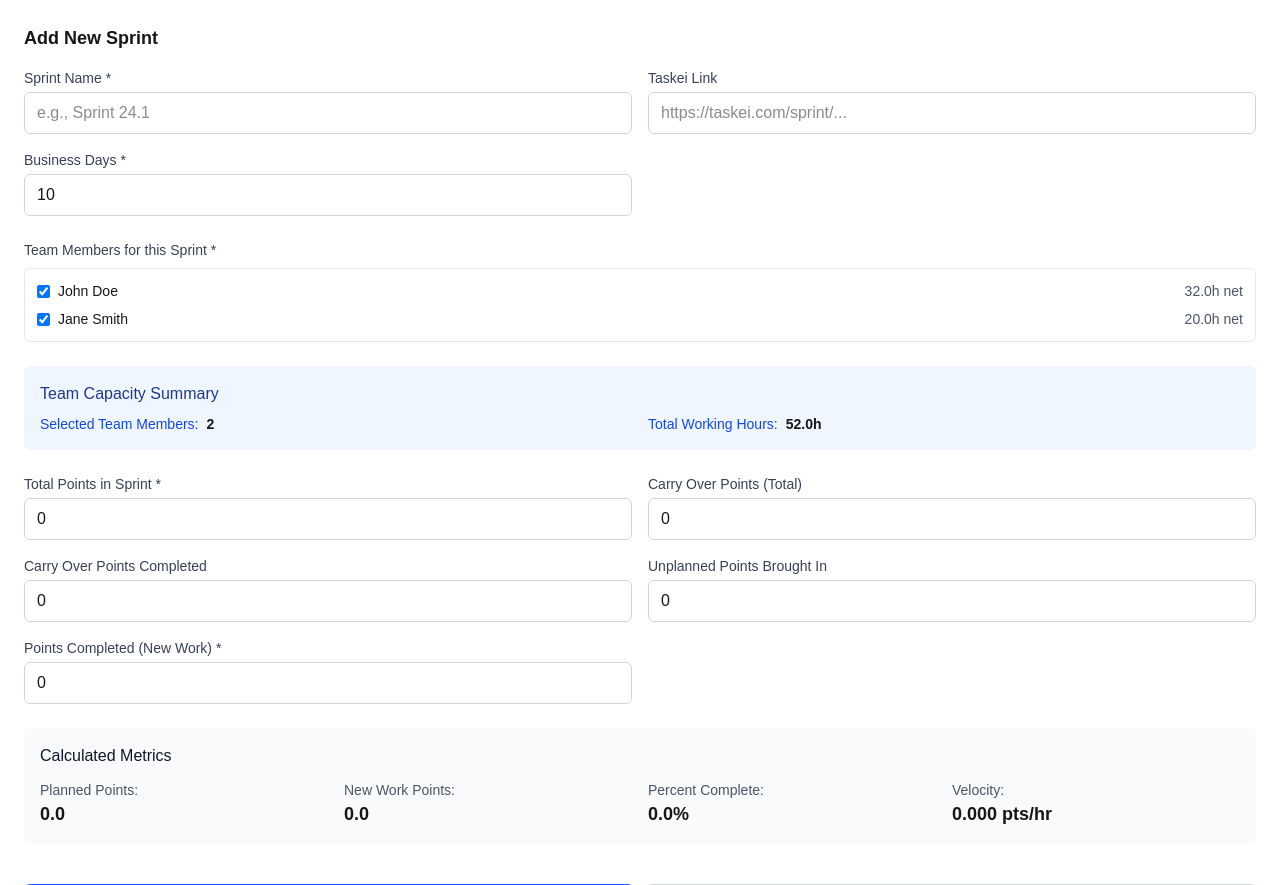
Scenario: SprintForm › should validate that at least one team member is selected
// Uncheck all team members
Click the checkbox labelled "John Doe": click(44, 291) [37,284,50,298]
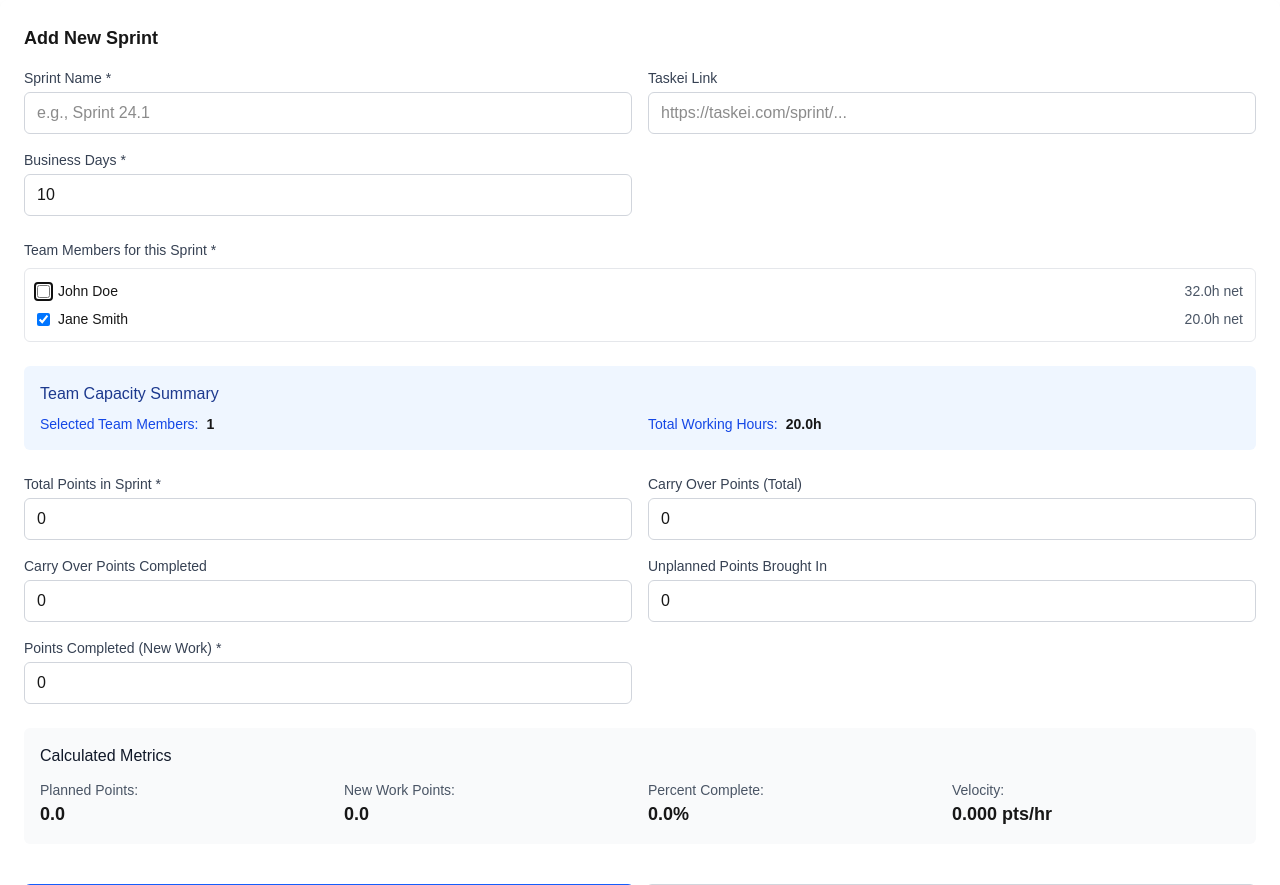
Click the checkbox labelled "Jane Smith": click(44, 319) [37,312,50,326]
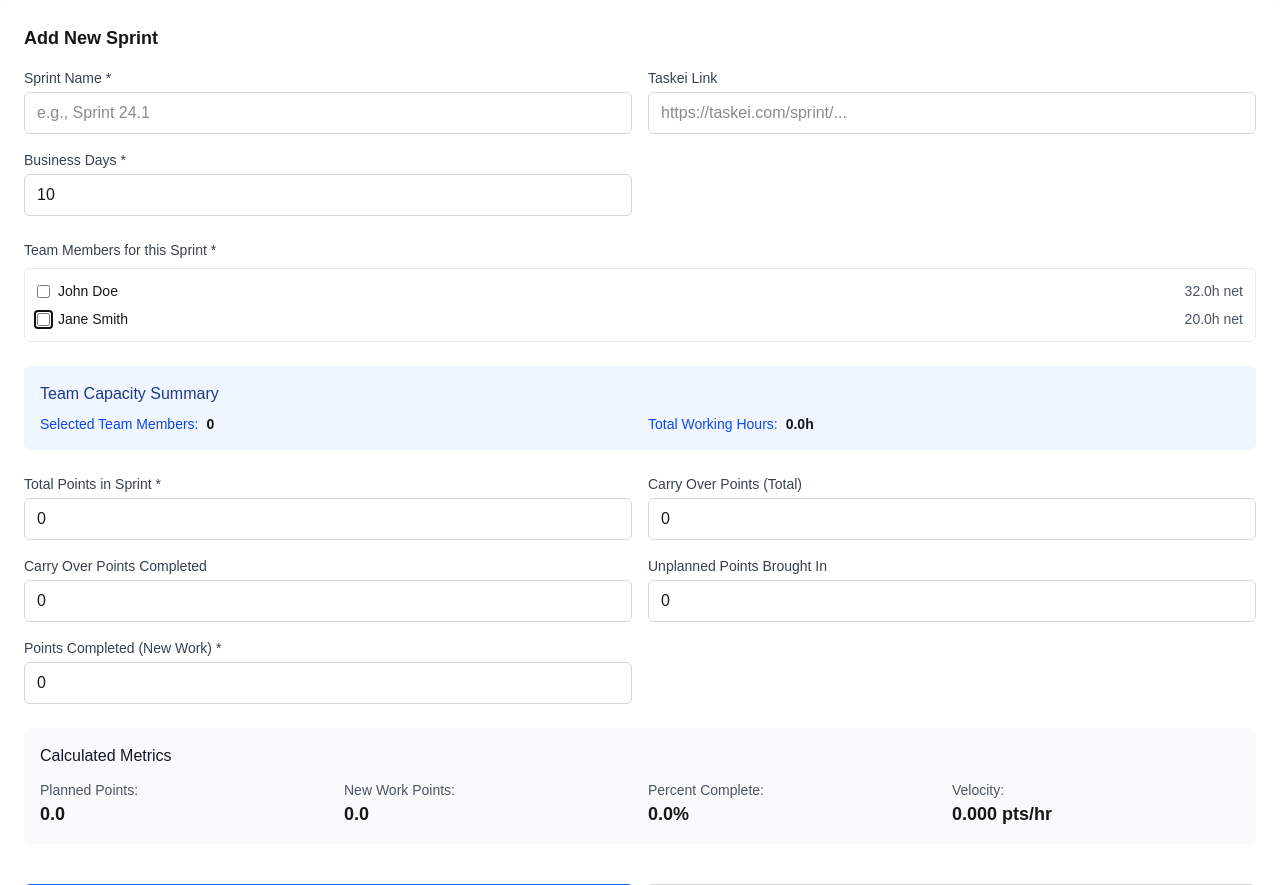
// Fill in required fields
In the field labelled "Sprint Name *": (328, 113) [24,92,632,134], type "Test Sprint"
(page scrolled)
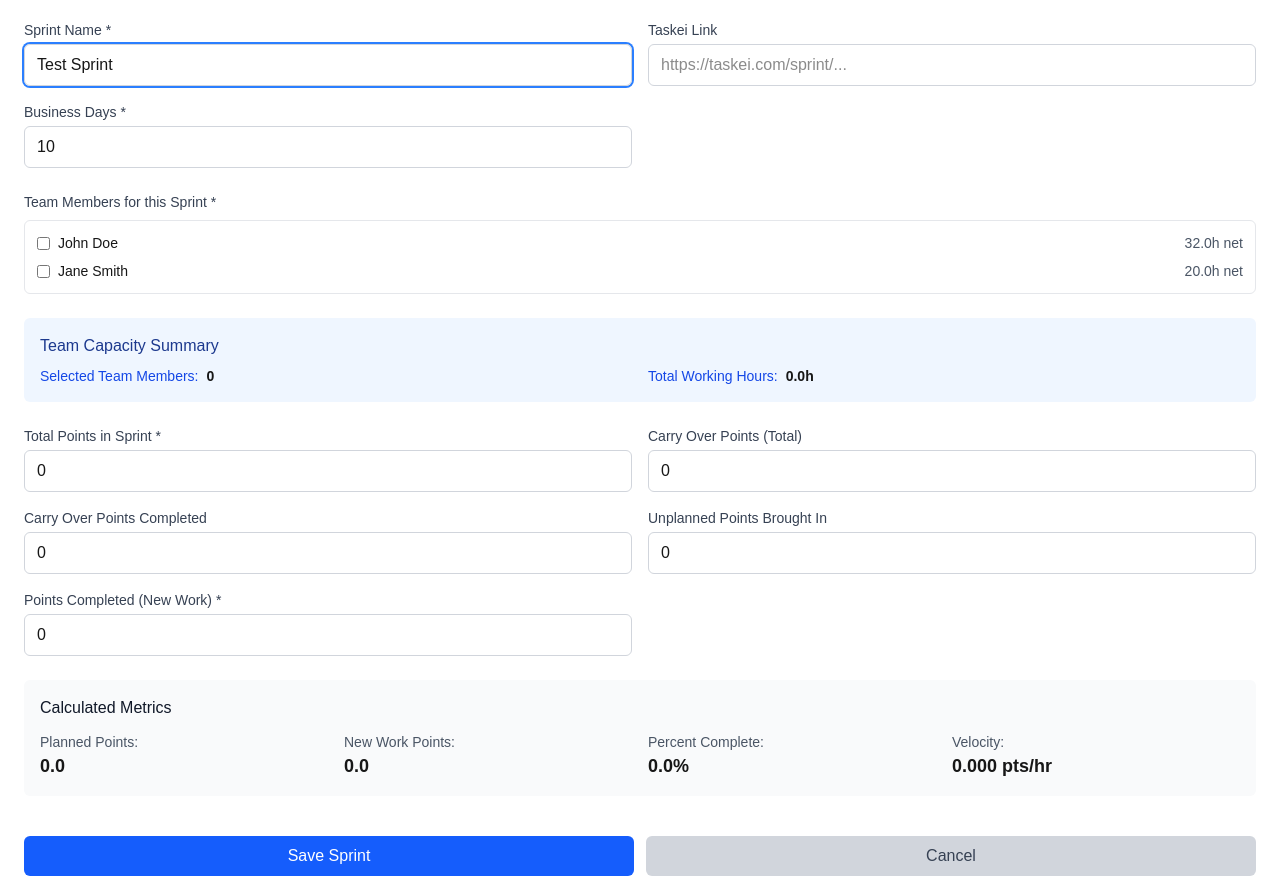
Click the button "Save Sprint": click(329, 856) [24,836,634,876]
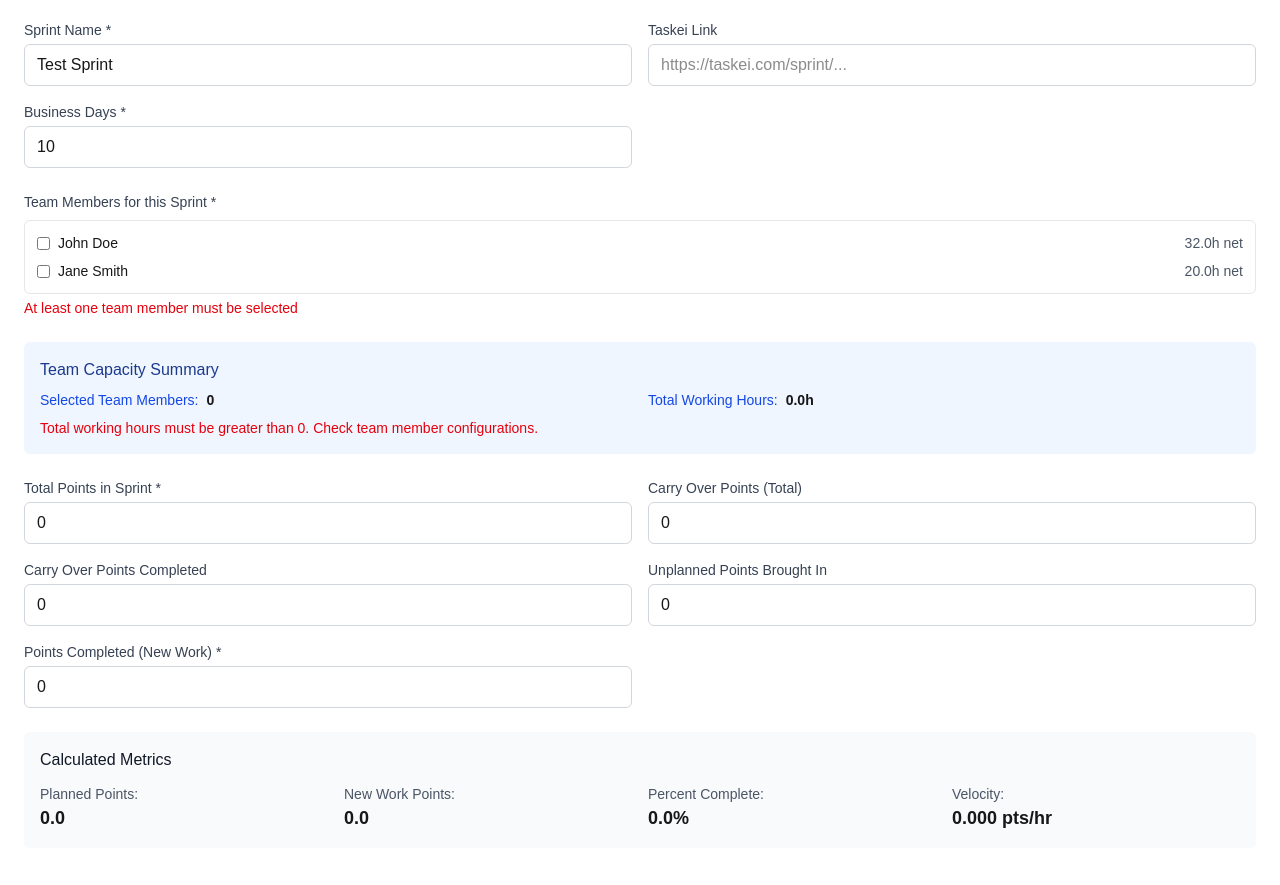
Expected: the text "At least one team member must be selected" is shown, [24,300,298,316]
